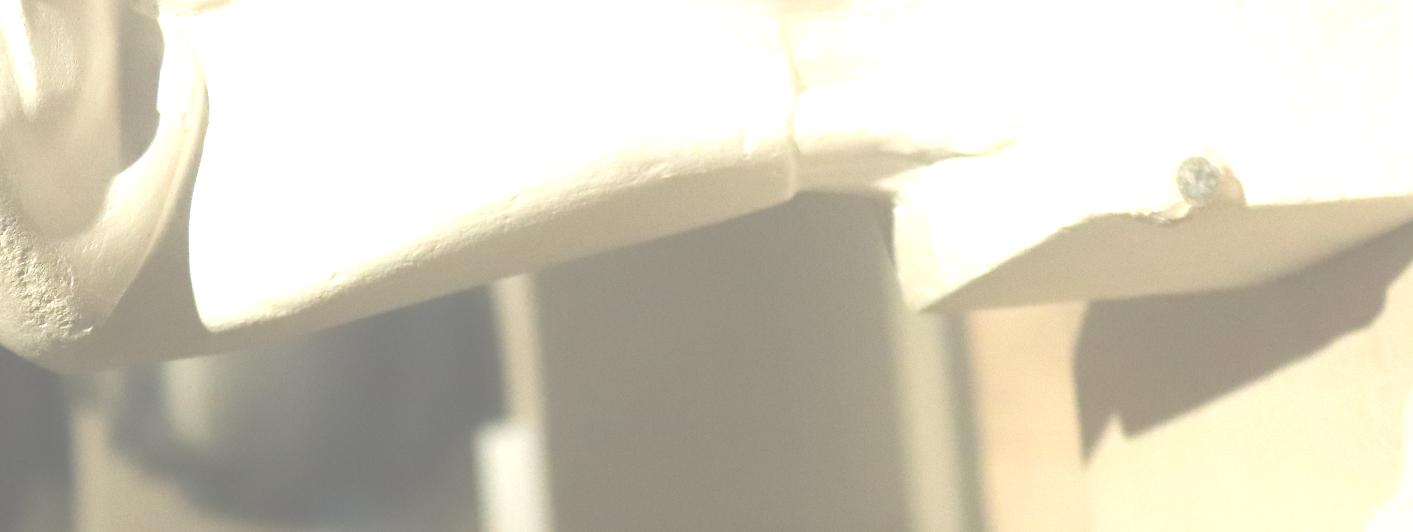the_female_peasent: (0, 0, 522, 518)
